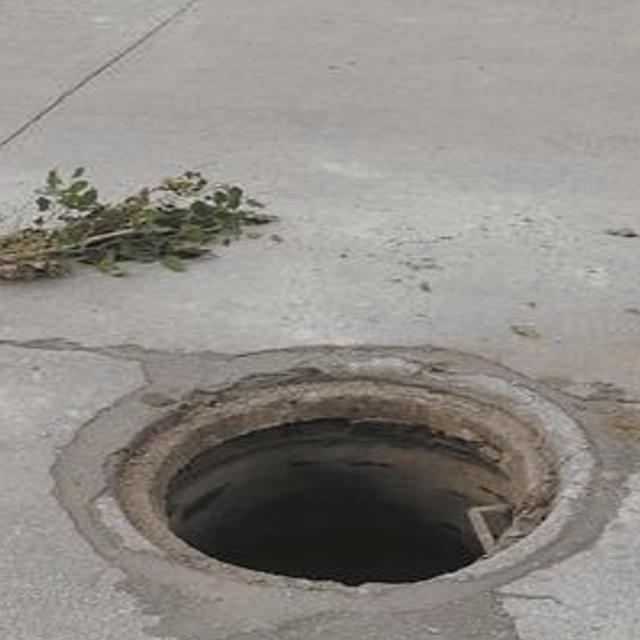lose: (37, 338, 640, 609)
